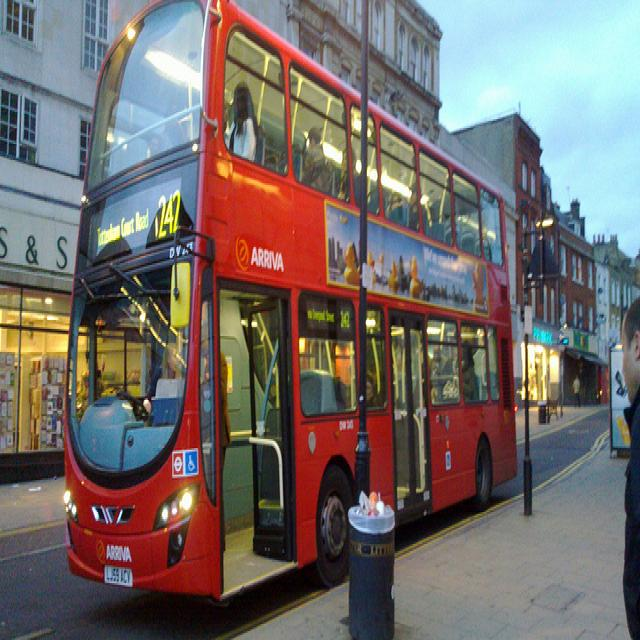Vehicle: (67, 0, 517, 605)
